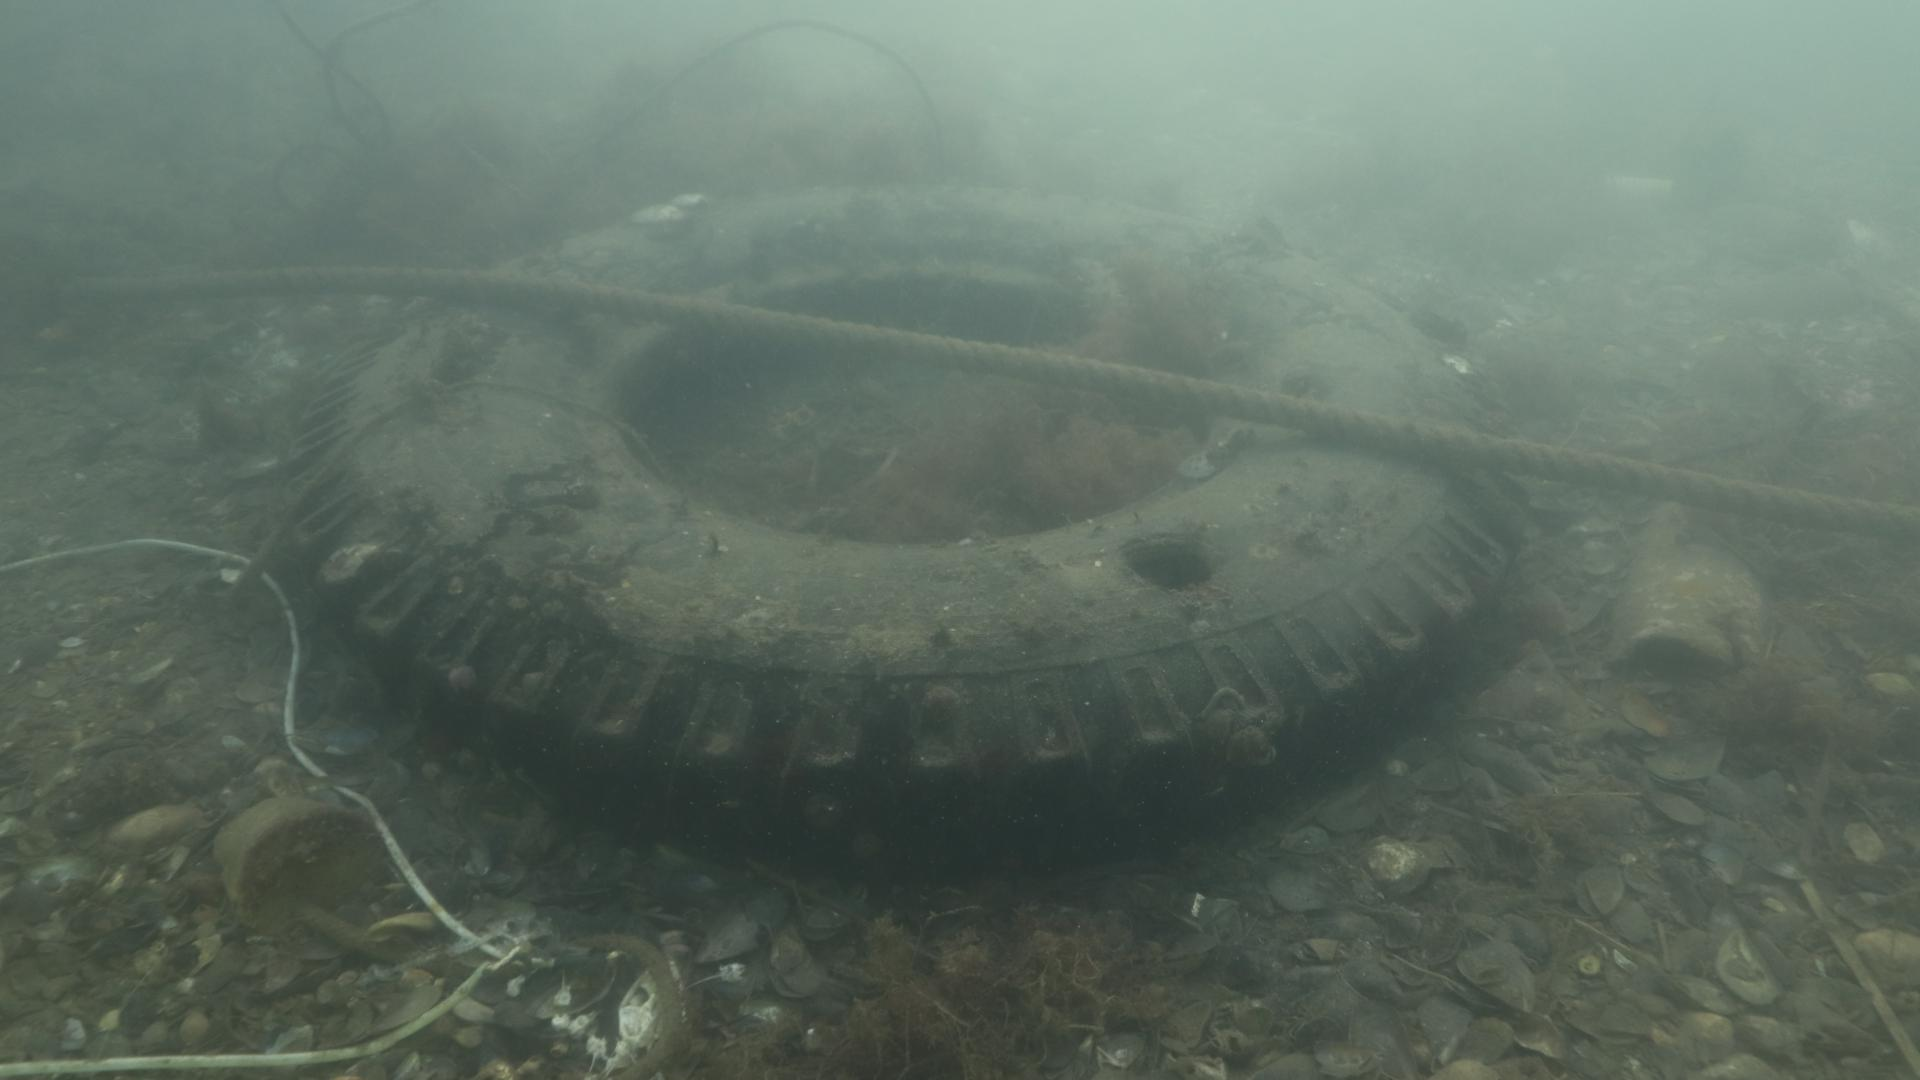rope: (190, 260, 1920, 539)
tire: (285, 183, 1540, 884)
